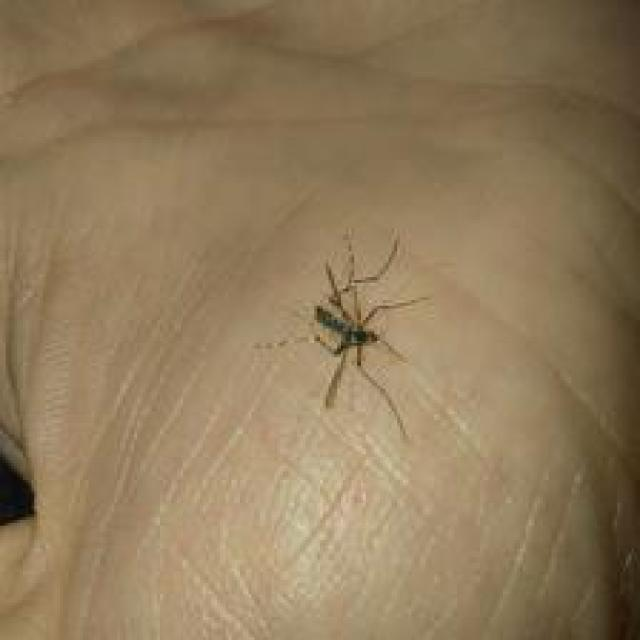Aedes albopictus: (253, 226, 430, 440)
